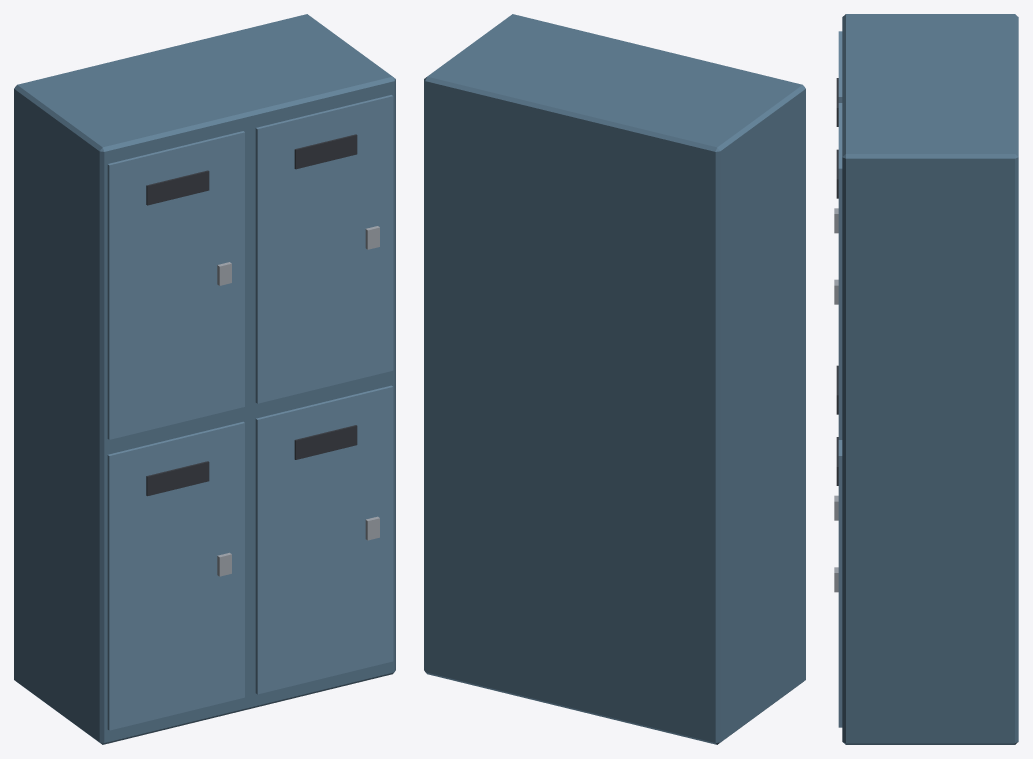
File: lockers.glb
3 views of the same model, side by side, from view 1: azimuth 30°, elevation 25°; view 2: azimuth 150°, elevation 25°; view 3: azimuth 270°, elevation 25° (orthographic).
Parts seen in each view (by area): view 1: lockers_mesh; view 2: lockers_mesh; view 3: lockers_mesh.
Part boxes in pixels (x1,y1,x2,y2): lockers_mesh: (14, 14, 395, 744); lockers_mesh: (424, 14, 805, 744); lockers_mesh: (834, 14, 1018, 744).
Size of the model in its own units: 0.96 by 1.85 by 0.5225.
